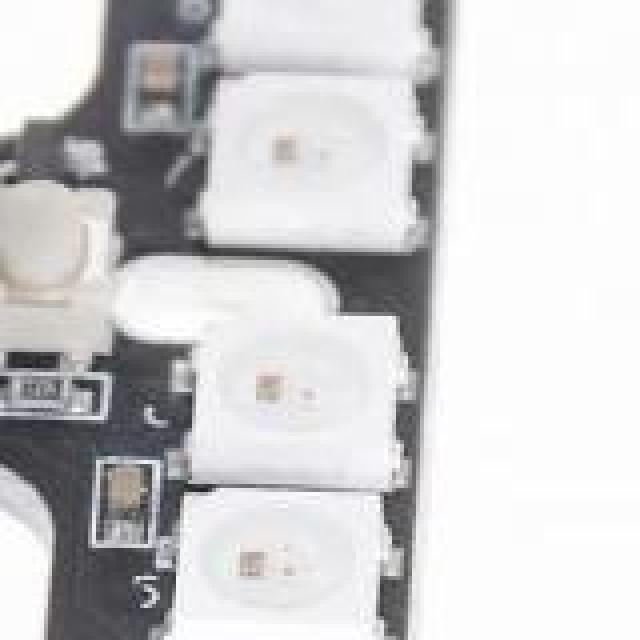LED: (196, 296, 422, 492), (200, 88, 444, 240), (184, 492, 420, 640), (216, 0, 456, 88)
capacitor: (124, 52, 198, 118), (96, 460, 152, 540)
resistor: (12, 360, 110, 424)
switch: (0, 164, 112, 360)
